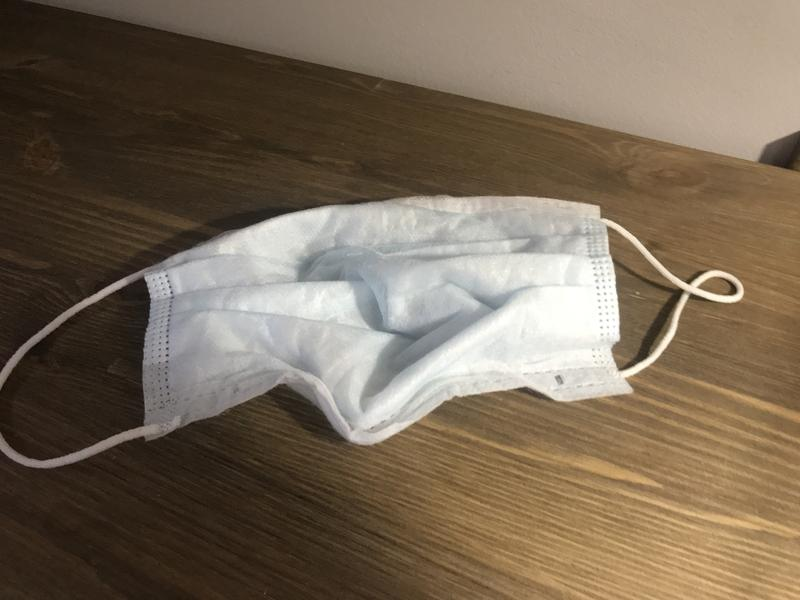medical_mask: (2, 194, 742, 471)
